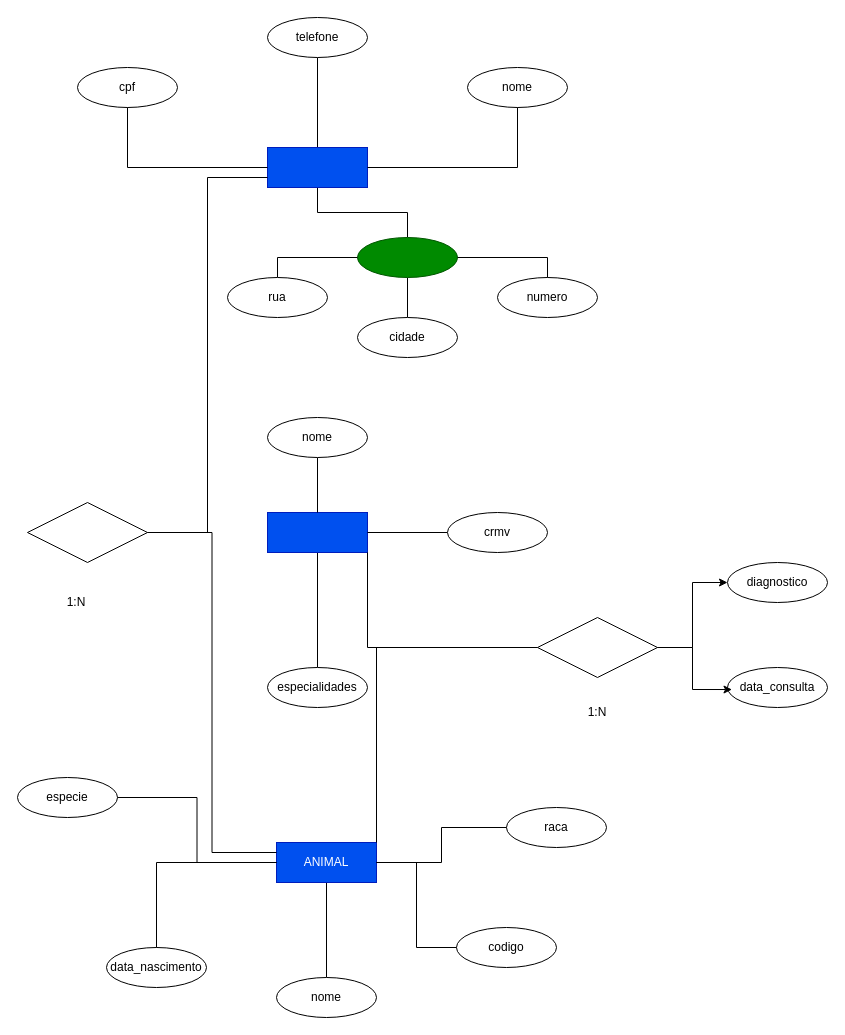
Some shapes in this 845 by 1035 pixel diagram are drawn without their labels. The centre of each missing label's shape, as x and y in pixels:
"atende" belongs at pixel 597 647.
"endereco" belongs at pixel 407 257.
"possui" belongs at pixel 87 532.
"TUTOR" belongs at pixel 317 167.
"VETERINARIO" belongs at pixel 317 532.
